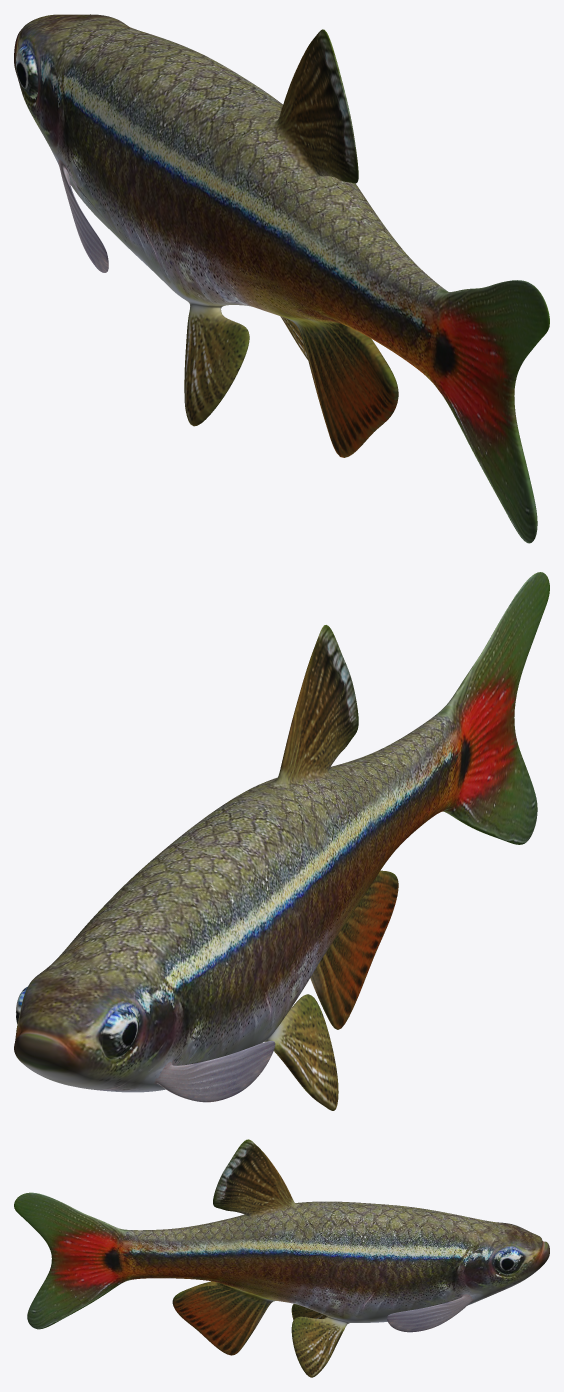
The model's file is 12993_Long_Fin_White_Cloud_v1_l3.obj.
The picture shows the model from 3 angles, top to bottom: view 1: azimuth 30°, elevation 25°; view 2: azimuth 150°, elevation 25°; view 3: azimuth 270°, elevation 25°; orthographic projection. The views are drawn at different scales.
Parts seen in each view (by area): view 1: 12993_Long_Fin_White_Cloud_v1_l3; view 2: 12993_Long_Fin_White_Cloud_v1_l3; view 3: 12993_Long_Fin_White_Cloud_v1_l3.
Boxes of the visible parts, x1,y1,x2,y2 form: 12993_Long_Fin_White_Cloud_v1_l3: [14, 14, 549, 543]; 12993_Long_Fin_White_Cloud_v1_l3: [14, 572, 549, 1110]; 12993_Long_Fin_White_Cloud_v1_l3: [14, 1139, 549, 1377].
Size of the model in its own units: 0.996 by 2.38 by 5.26.
Materials: 1 (1 with a texture image).
